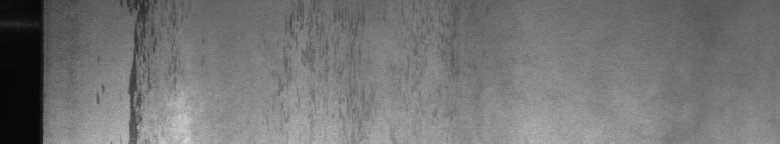hd: (128, 7, 148, 136)
